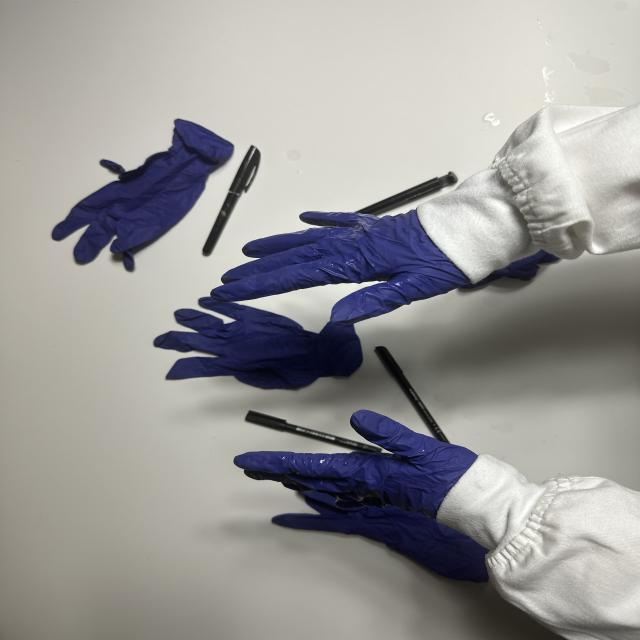gloves_contaminated: (212, 211, 470, 325), (235, 410, 477, 517)
